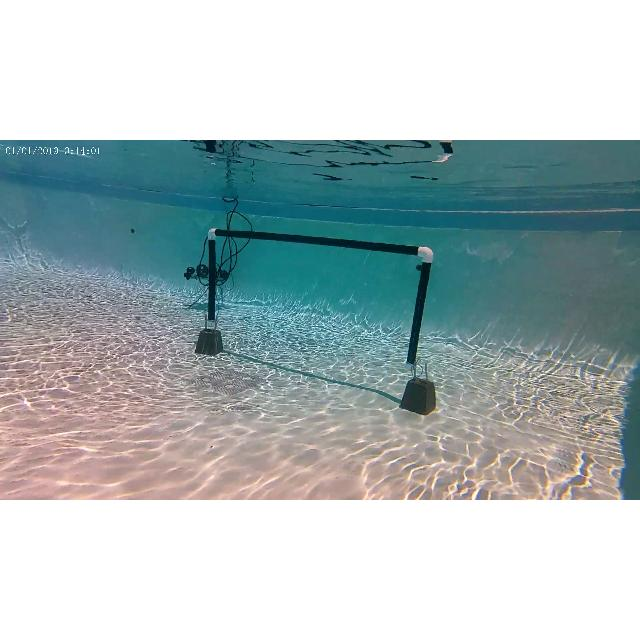prequal gate: (206, 228, 434, 372)
prequal gate leg l: (204, 228, 226, 328)
prequal gate leg r: (399, 238, 435, 382)
